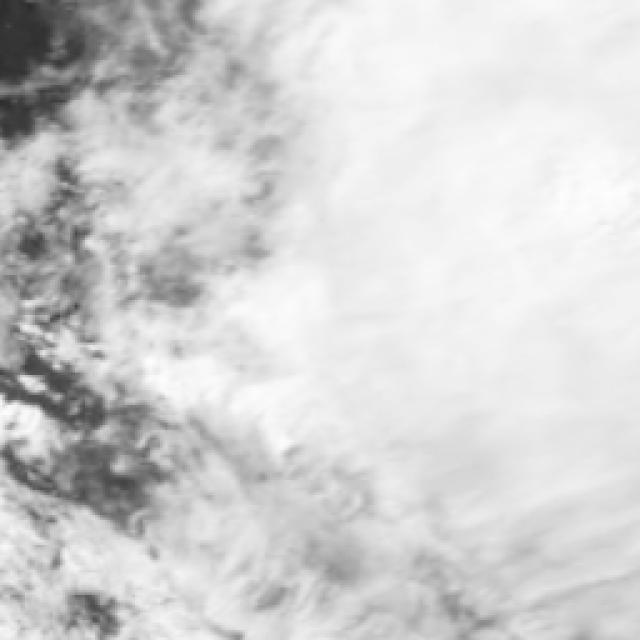CB: (216, 184, 450, 433), (439, 224, 640, 495), (207, 425, 436, 640), (215, 0, 458, 196), (437, 15, 640, 234), (74, 98, 296, 287), (428, 435, 630, 640), (132, 311, 288, 527)
